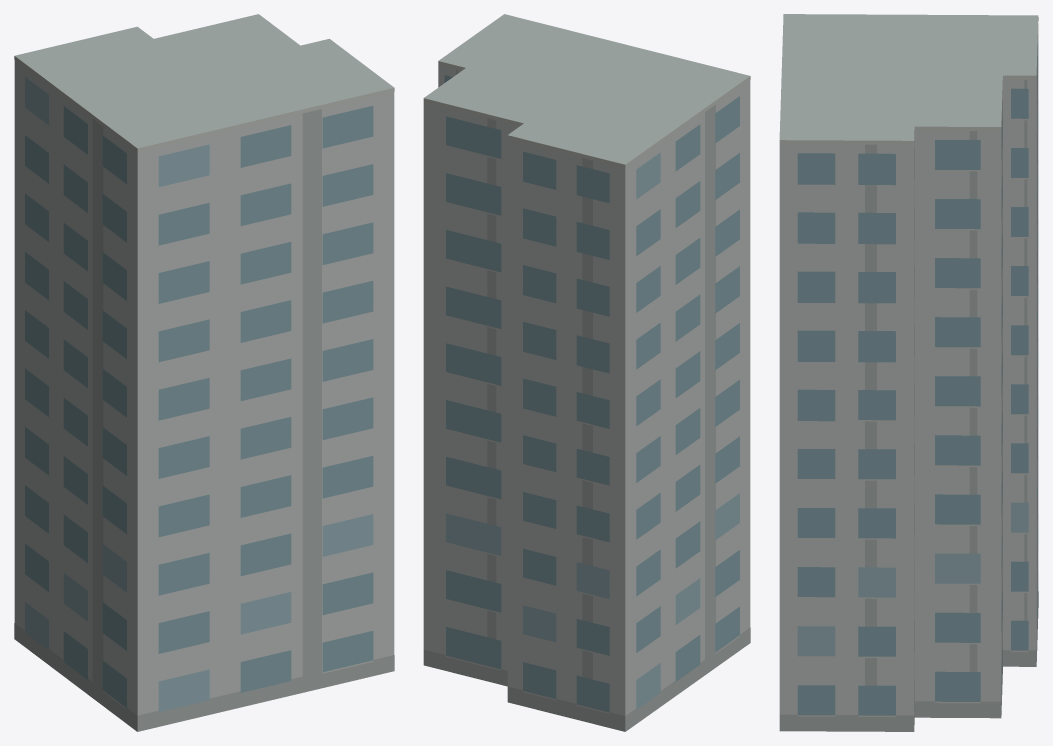
File: residential-5463b653-38df-44c1-a150-ebd57f083cd9.glb
The picture shows the model from 3 angles, left to right: view 1: azimuth 30°, elevation 25°; view 2: azimuth 150°, elevation 25°; view 3: azimuth 270°, elevation 25°; orthographic projection. The views are drawn at different scales.
Parts seen in each view (by area): view 1: residential-5463b653-38df-44c1-a150-ebd57f083cd9.tmp; view 2: residential-5463b653-38df-44c1-a150-ebd57f083cd9.tmp; view 3: residential-5463b653-38df-44c1-a150-ebd57f083cd9.tmp.
Boxes of the visible parts, x1=… form: residential-5463b653-38df-44c1-a150-ebd57f083cd9.tmp: x1=14, y1=14, x2=394, y2=731; residential-5463b653-38df-44c1-a150-ebd57f083cd9.tmp: x1=423, y1=14, x2=750, y2=731; residential-5463b653-38df-44c1-a150-ebd57f083cd9.tmp: x1=779, y1=14, x2=1038, y2=731.
Size of the model in its own units: 16.12 by 35 by 13.9.
